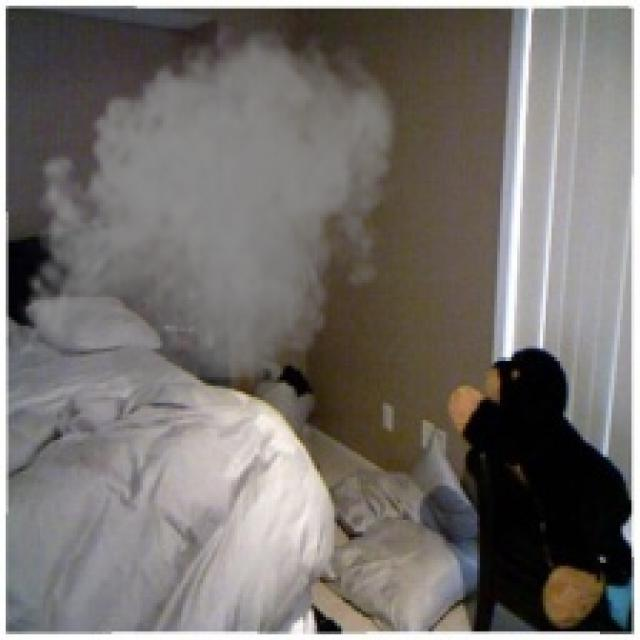smoke: (14, 17, 403, 440)
